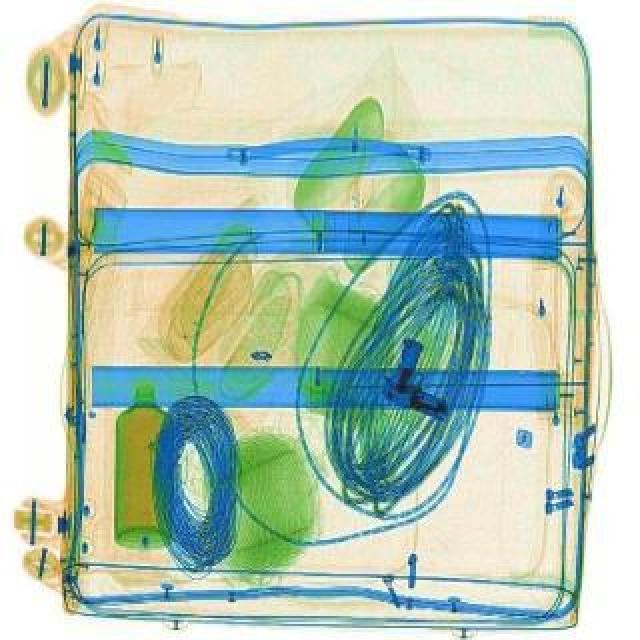gun: (374, 336, 470, 420)
